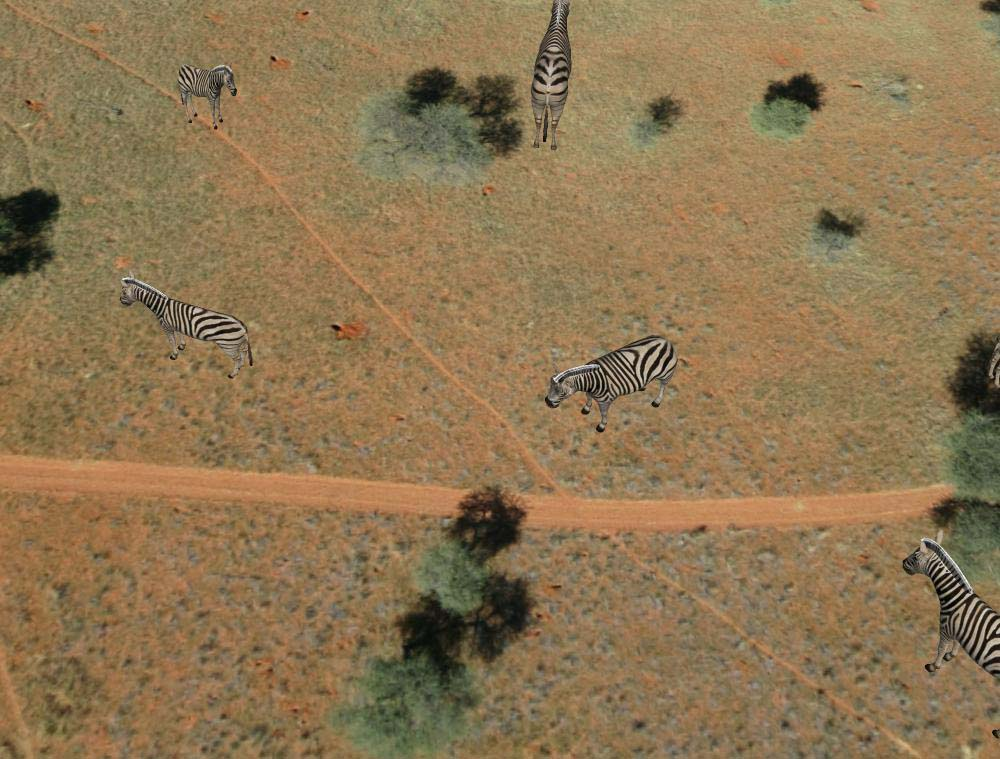zebra: (118, 267, 255, 385), (904, 532, 1000, 696), (544, 335, 679, 434), (529, 1, 575, 156), (175, 62, 239, 134)
